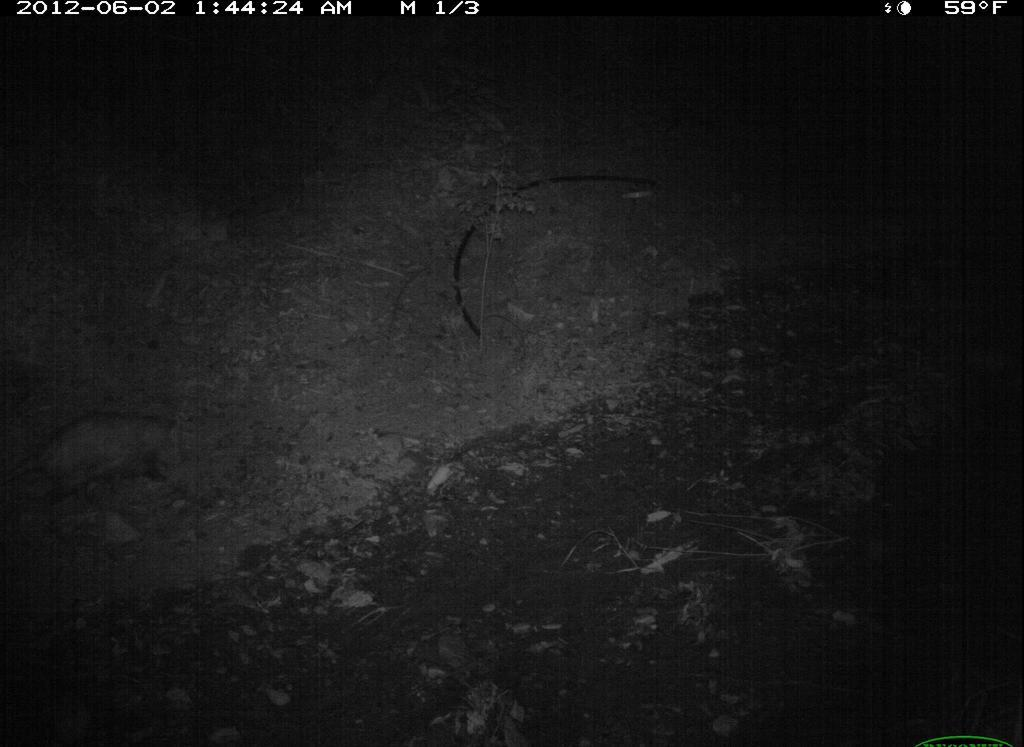opossum: (17, 392, 214, 515)
